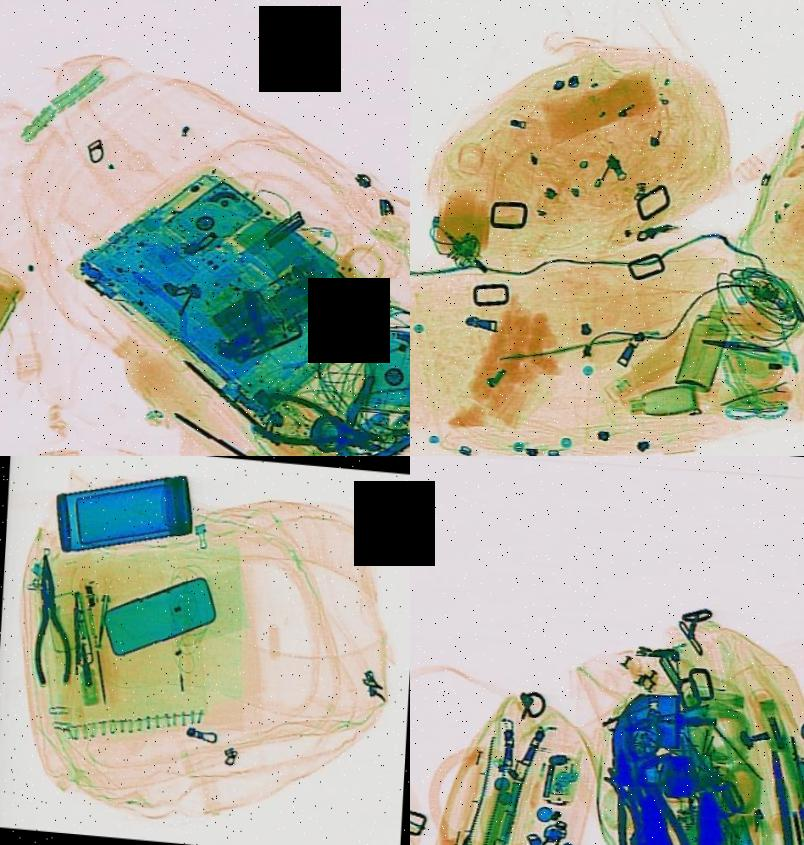Pliers: (277, 368, 410, 456), (242, 386, 399, 456), (20, 550, 78, 685), (597, 744, 661, 845), (678, 788, 737, 845)
